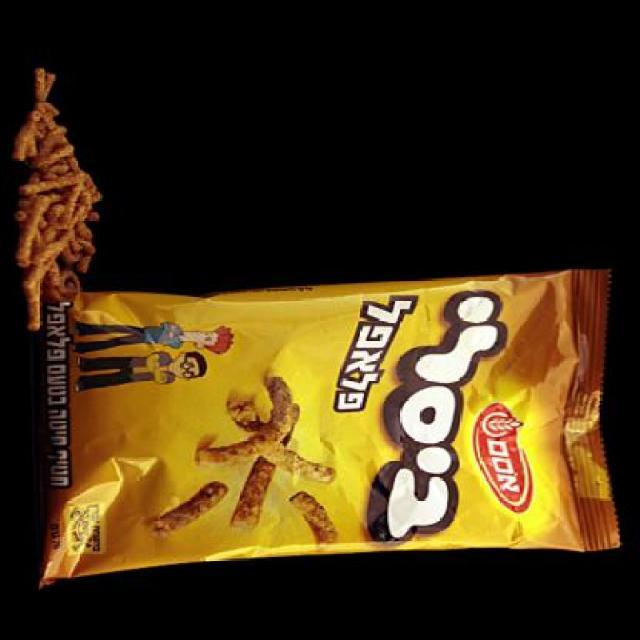Chips: (24, 250, 622, 613)
Chips packaged: (4, 60, 128, 331)
